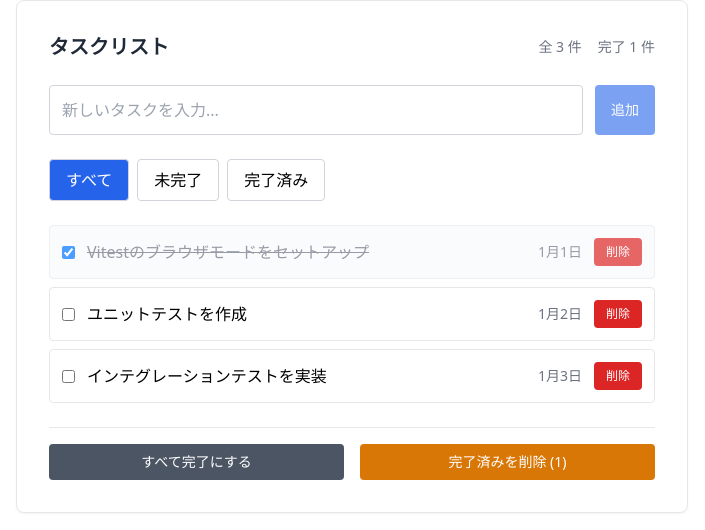
Test: TaskList コンポーネント › 一括操作 › 「すべて未完了にする」ボタンで全タスクを未完了状態にできる
// まずすべて完了にする
Click the button with test id "check-all-btn".
click(196, 462)  # box [49,444,344,480]
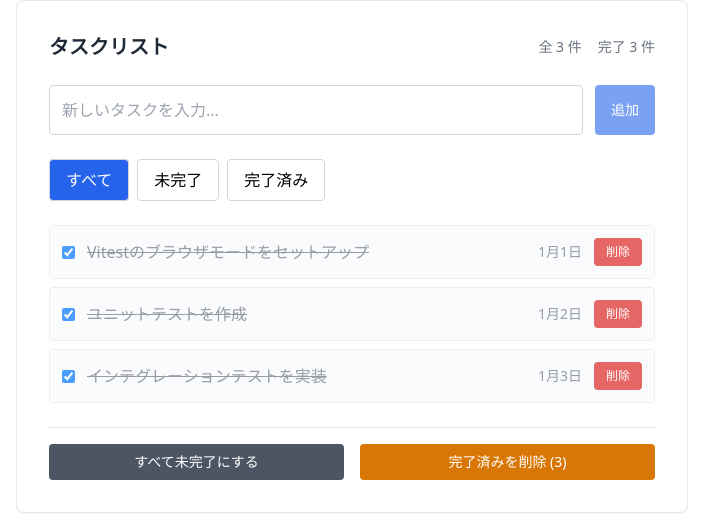
// その後すべて未完了にする
Click the button with test id "uncheck-all-btn".
click(196, 462)  # box [49,444,344,480]
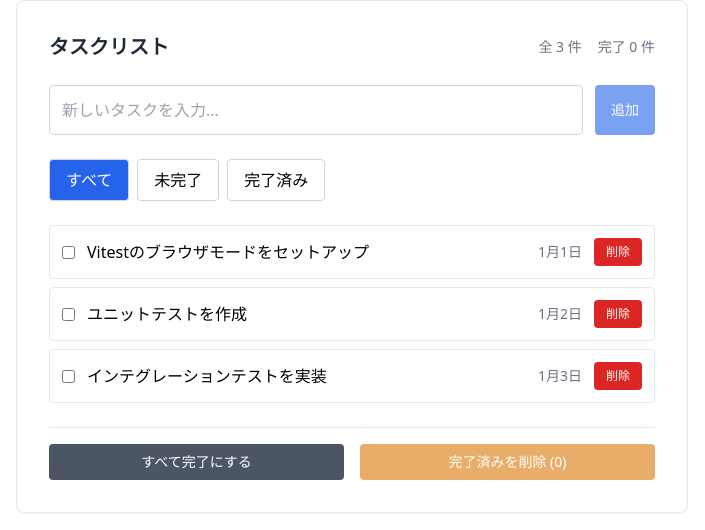
Now the text with test id "completed-tasks" reads "完了 0 件", box [598,37,655,56]
